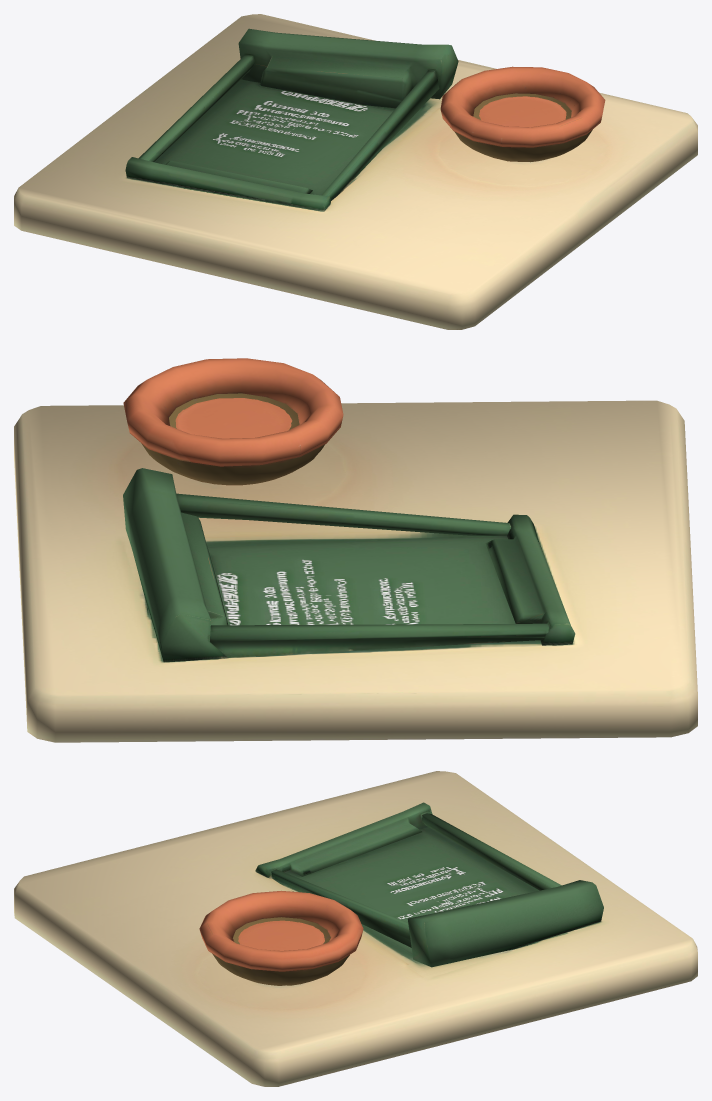
The picture shows the model from 3 angles, top to bottom: view 1: azimuth 30°, elevation 25°; view 2: azimuth 150°, elevation 25°; view 3: azimuth 270°, elevation 25°; orthographic projection. The views are drawn at different scales.
Parts seen in each view (by area): view 1: tripo_node_ee23c62e-f5ca-43c6-a85d-ece804f74209; view 2: tripo_node_ee23c62e-f5ca-43c6-a85d-ece804f74209; view 3: tripo_node_ee23c62e-f5ca-43c6-a85d-ece804f74209.
Boxes of the visible parts, x1,y1,x2,y2 form: tripo_node_ee23c62e-f5ca-43c6-a85d-ece804f74209: (14,14,697,329); tripo_node_ee23c62e-f5ca-43c6-a85d-ece804f74209: (14,358,697,742); tripo_node_ee23c62e-f5ca-43c6-a85d-ece804f74209: (14,771,697,1086).
Bounding box in the file's own units: 1.3 × 0.1816 × 1.31.
Materials: 1 (1 with a texture image).
